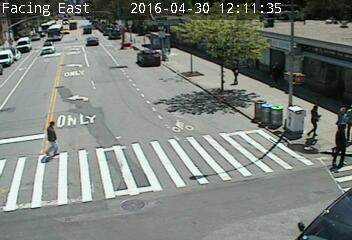neg: (271, 168, 297, 204), (248, 17, 268, 43), (290, 26, 308, 51), (18, 56, 36, 80), (249, 156, 265, 178), (152, 44, 168, 65), (226, 102, 242, 123), (209, 142, 224, 163), (193, 211, 208, 231), (98, 89, 112, 108), (60, 57, 74, 76), (177, 90, 191, 108), (156, 131, 169, 149), (176, 23, 189, 41), (125, 54, 138, 71), (331, 215, 342, 230), (137, 174, 147, 188), (104, 46, 114, 59), (95, 186, 102, 195)
pos: (322, 119, 351, 165), (301, 102, 330, 140), (33, 118, 62, 156), (262, 61, 284, 90), (331, 102, 351, 131), (225, 61, 246, 88)
